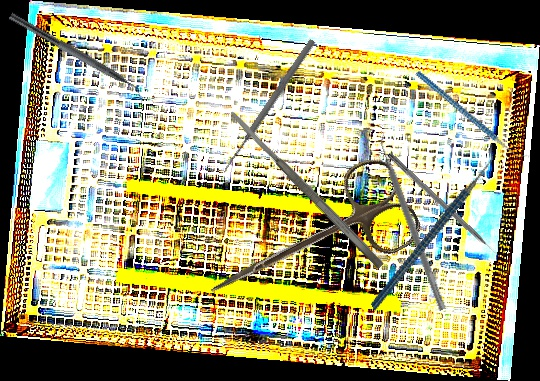Chopper: (331, 141, 534, 312), (414, 44, 531, 186), (3, 12, 150, 105)
Hook Surgical: (386, 152, 502, 261)
Iris Scissors: (191, 150, 427, 338)
Pusher: (221, 37, 317, 173)
Spatula Surgical: (227, 107, 386, 271), (372, 131, 454, 312)
